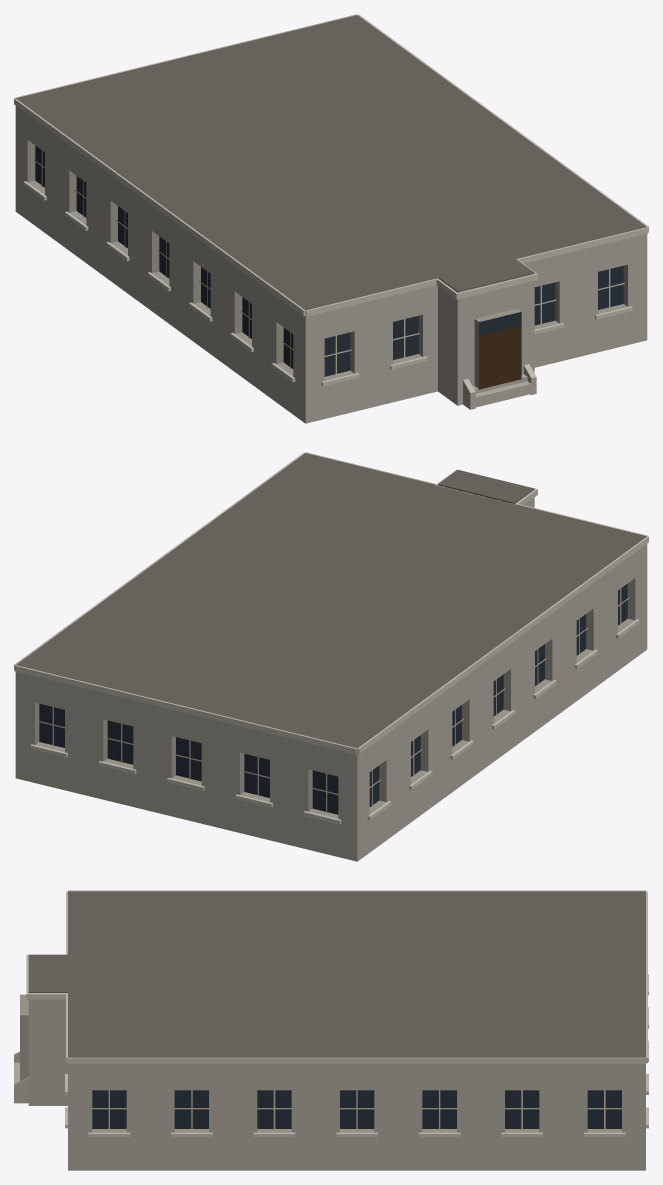
The model's file is ch-capitol-view-methodist-1913.glb.
3 renders of one model, top to bottom at view 1: azimuth 30°, elevation 25°; view 2: azimuth 150°, elevation 25°; view 3: azimuth 270°, elevation 25°, orthographic.
Parts seen in each view (by area): view 1: ch_flat, ch_brick, ch_trim, ch_glass, ch_brick2, ch_door, ch_conc, ch_lead; view 2: ch_flat, ch_brick, ch_trim, ch_glass, ch_brick2, ch_lead; view 3: ch_flat, ch_brick, ch_glass, ch_trim, ch_brick2, ch_lead, ch_conc.
Boxes of the visible parts, left/top/right/bottom form: ch_flat: left=16, top=15, right=646, bottom=310; ch_brick: left=15, top=106, right=647, bottom=423; ch_trim: left=14, top=14, right=648, bottom=386; ch_glass: left=35, top=146, right=623, bottom=376; ch_brick2: left=27, top=140, right=627, bottom=389; ch_door: left=479, top=325, right=521, bottom=389; ch_conc: left=463, top=364, right=536, bottom=409; ch_lead: left=33, top=150, right=624, bottom=374; ch_flat: left=16, top=453, right=646, bottom=748; ch_brick: left=15, top=497, right=647, bottom=861; ch_trim: left=14, top=452, right=648, bottom=824; ch_glass: left=39, top=584, right=627, bottom=814; ch_brick2: left=35, top=578, right=635, bottom=818; ch_lead: left=38, top=588, right=629, bottom=812; ch_flat: left=28, top=891, right=645, bottom=1057; ch_brick: left=28, top=999, right=645, bottom=1170; ch_glass: left=92, top=1090, right=621, bottom=1128; ch_trim: left=26, top=890, right=648, bottom=1137; ch_brick2: left=20, top=994, right=621, bottom=1132; ch_lead: left=92, top=1090, right=621, bottom=1129; ch_conc: left=14, top=1051, right=28, bottom=1103.
Bounding box in the file's own units: 16.24 × 5.12 × 25.82.
